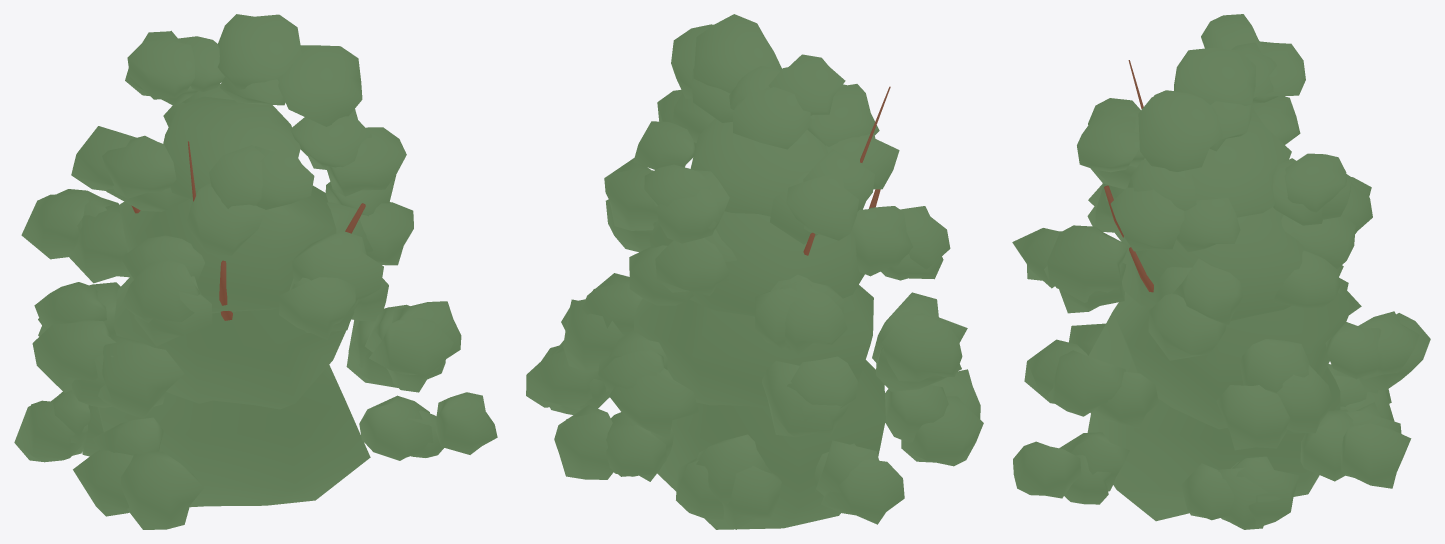
Rendered from Blender_WesternJuniper_2.glb.
3 renders of one model, left to right at view 1: azimuth 30°, elevation 25°; view 2: azimuth 150°, elevation 25°; view 3: azimuth 270°, elevation 25°, orthographic. The views are drawn at different scales.
Parts seen in each view (by area): view 1: Blender_WesternJuniper_2; view 2: Blender_WesternJuniper_2; view 3: Blender_WesternJuniper_2.
Boxes of the visible parts, x1,y1,x2,y2 form: Blender_WesternJuniper_2: (14,14,497,529); Blender_WesternJuniper_2: (526,14,983,529); Blender_WesternJuniper_2: (1012,14,1430,529).
Size of the model in its own units: 6.88 by 7.64 by 6.22.
